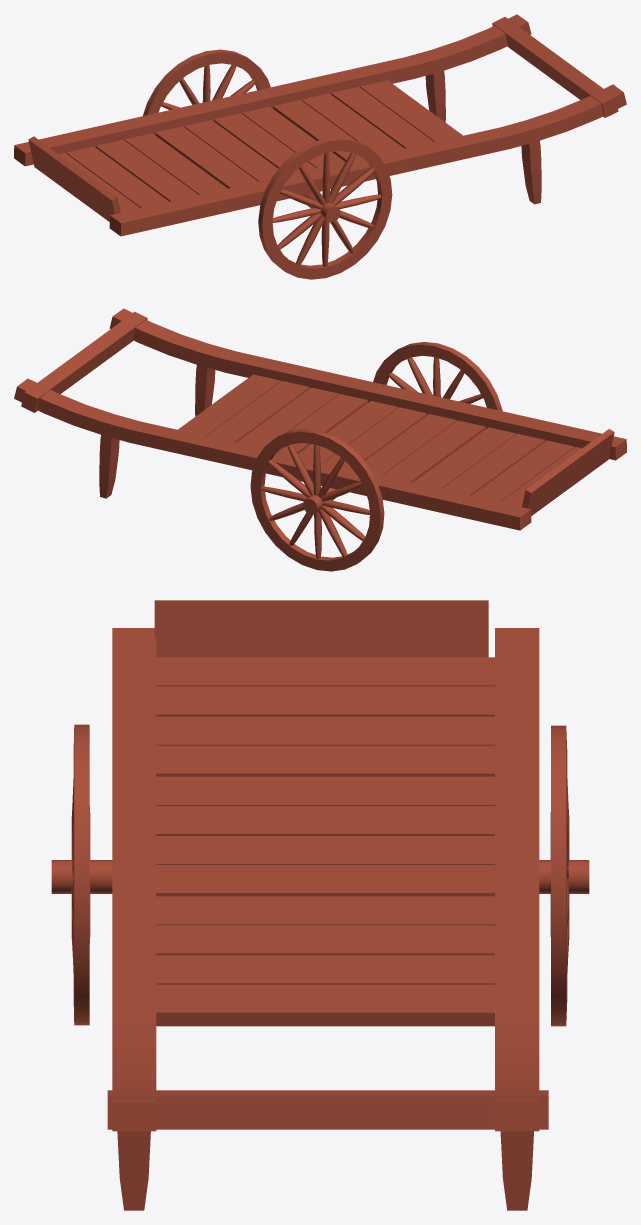
The model's file is SM_cart_empty.fbx.
The picture shows the model from 3 angles, top to bottom: view 1: azimuth 30°, elevation 25°; view 2: azimuth 150°, elevation 25°; view 3: azimuth 270°, elevation 25°; orthographic projection. The views are drawn at different scales.
Parts seen in each view (by area): view 1: Object32451; view 2: Object32451; view 3: Object32451.
Part boxes in pixels (box(x1,y1,x2,y2)): Object32451: box(14, 14, 626, 279); Object32451: box(14, 308, 626, 571); Object32451: box(51, 600, 589, 1210).
Bounding box in the file's own units: 165 × 42.38 × 75.74.
